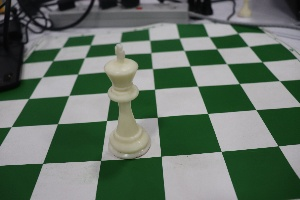white_king: (93, 36, 160, 170)
